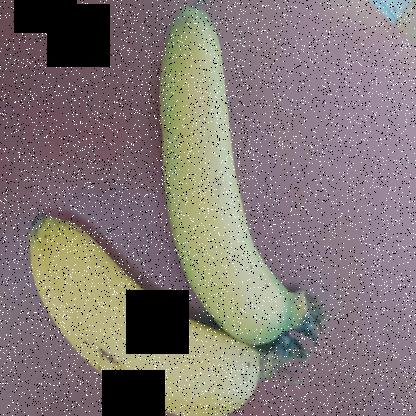freshripe: (9, 213, 294, 415), (153, 13, 310, 346)
